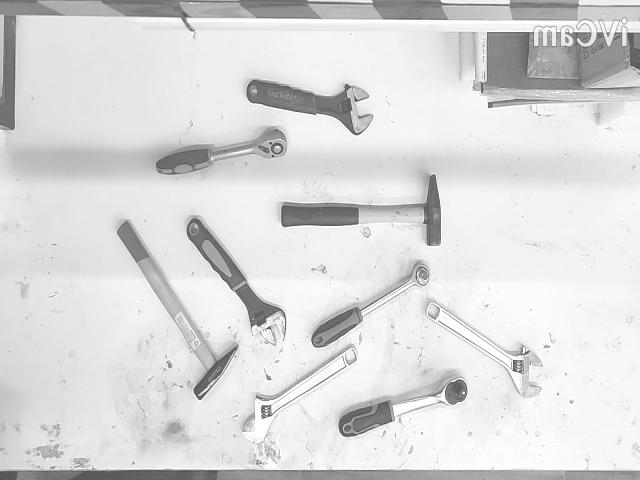Adjustable spanner: (186, 218, 287, 345), (426, 302, 542, 398), (242, 347, 358, 442), (246, 80, 372, 134)
Hammer: (118, 220, 238, 399), (281, 175, 441, 246)
Ratchet: (311, 263, 431, 348), (339, 375, 468, 437), (156, 129, 288, 175)
